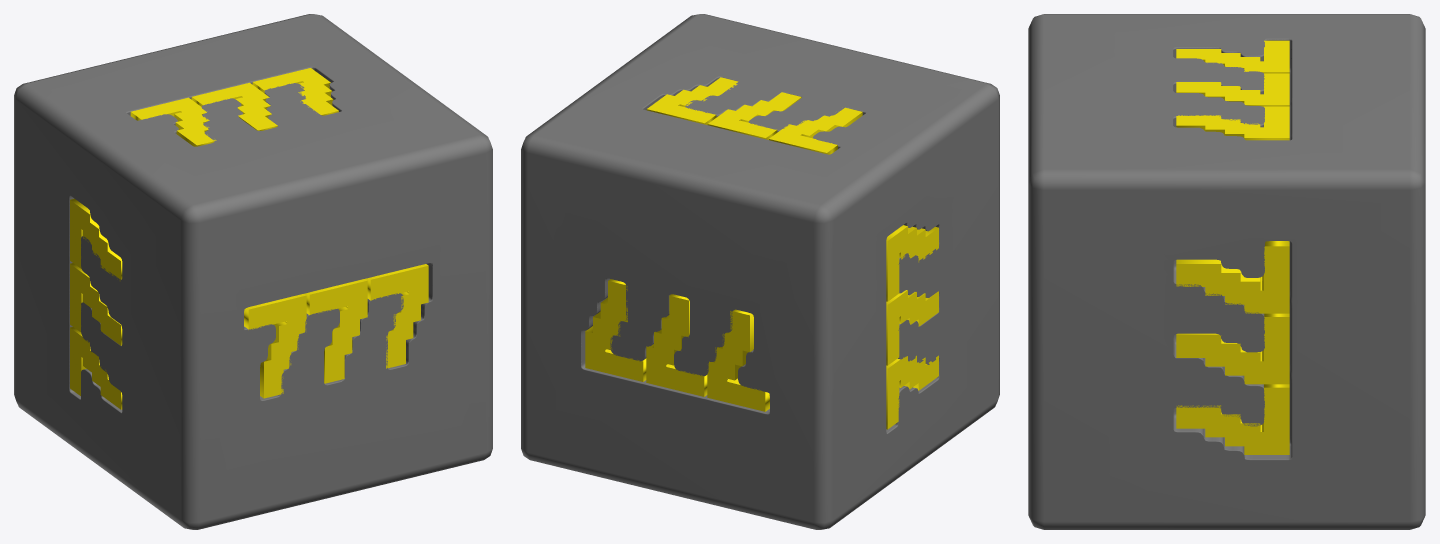
File: 5_lucky_dice_777_v2.gltf
The picture shows the model from 3 angles, left to right: view 1: azimuth 30°, elevation 25°; view 2: azimuth 150°, elevation 25°; view 3: azimuth 270°, elevation 25°; orthographic projection. The views are drawn at different scales.
Visible parts, largest first — view 1: Lucky_Dice_777; view 2: Lucky_Dice_777; view 3: Lucky_Dice_777.
Boxes of the visible parts, bbox=[...] form: Lucky_Dice_777: bbox=[14, 14, 492, 529]; Lucky_Dice_777: bbox=[521, 14, 999, 529]; Lucky_Dice_777: bbox=[1028, 14, 1425, 529].
Size of the model in its own units: 2 by 2 by 2.
